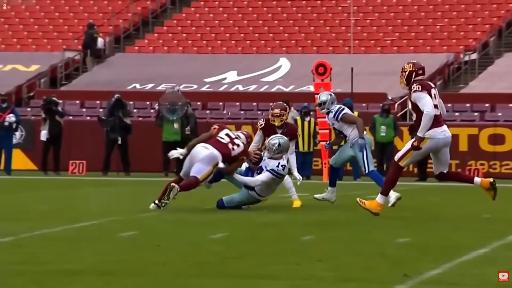Helmet: (400, 61, 426, 89), (265, 135, 289, 157), (269, 102, 289, 126), (316, 92, 337, 113), (235, 131, 253, 145)
Jersey: (251, 118, 298, 172), (244, 157, 288, 198), (409, 80, 444, 131), (207, 124, 248, 164), (327, 105, 358, 142), (257, 118, 297, 141)
Player: (357, 62, 497, 215), (150, 124, 252, 209), (314, 92, 384, 202), (217, 135, 289, 209), (250, 102, 302, 183)
